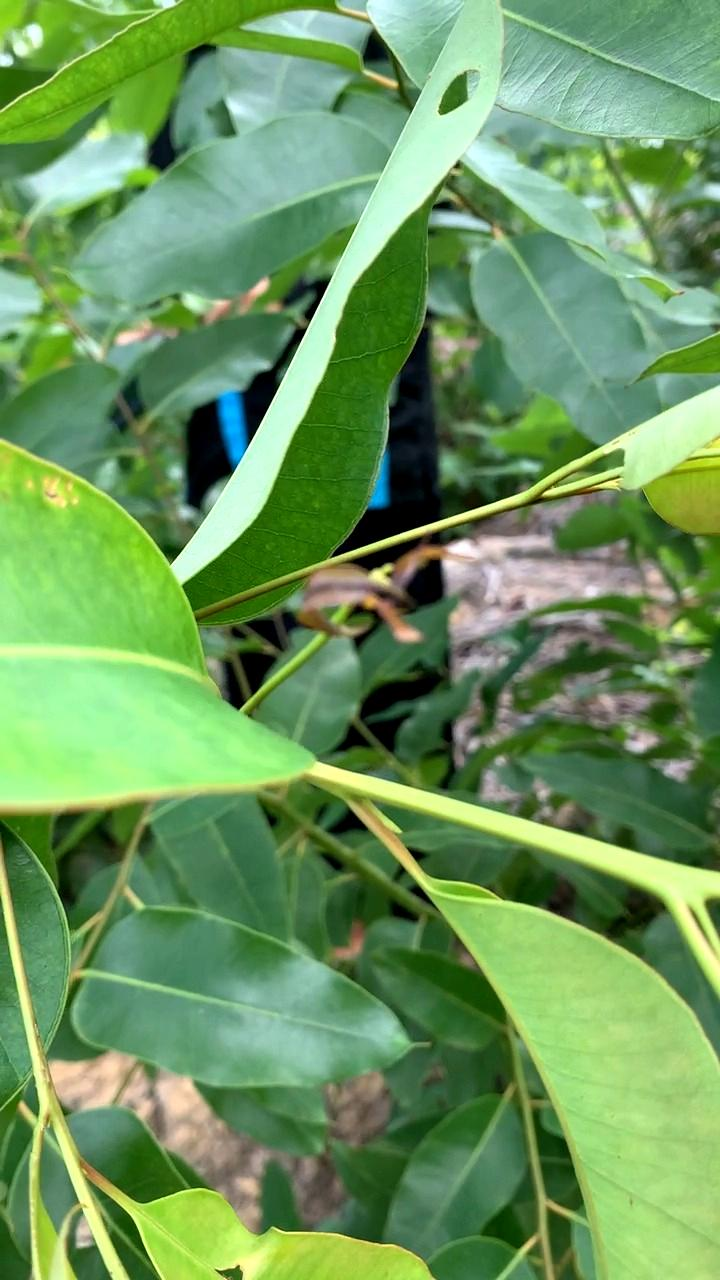Helopeltis-Withered Sprout: (290, 540, 481, 646)
